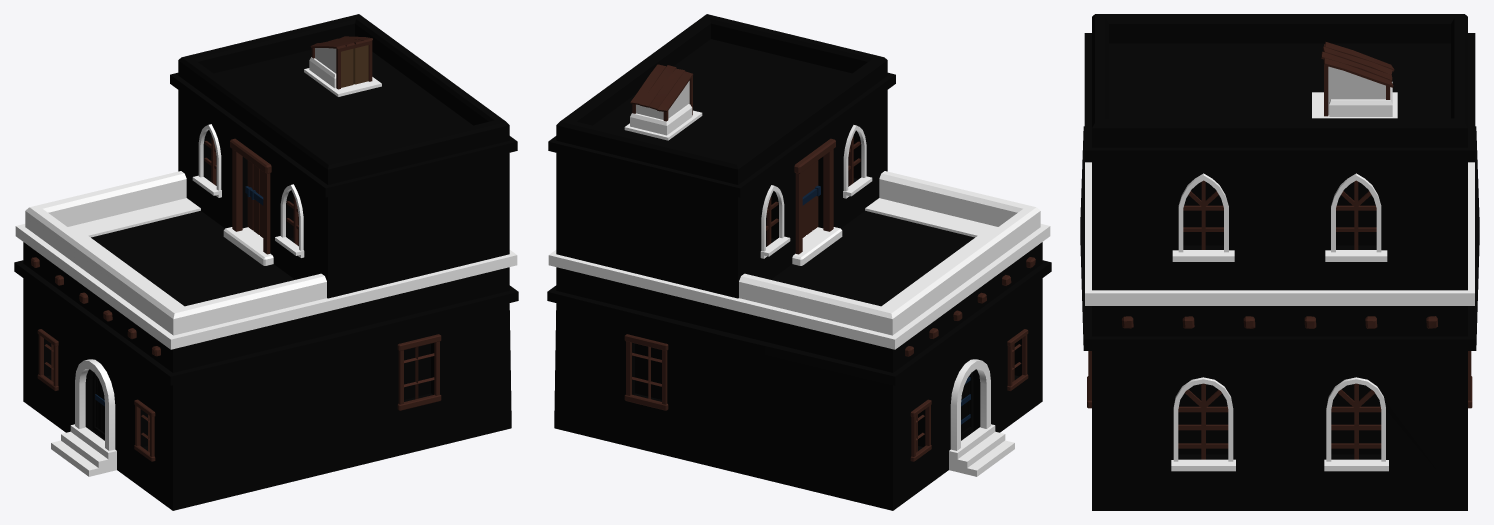
The model's file is civilian_house_32_f.FBX.
3 renders of one model, left to right at view 1: azimuth 30°, elevation 25°; view 2: azimuth 150°, elevation 25°; view 3: azimuth 270°, elevation 25°, orthographic. The views are drawn at different scales.
Visible parts, largest first — view 1: civilian_house_32_f; view 2: civilian_house_32_f; view 3: civilian_house_32_f.
Part boxes in pixels (<box>): civilian_house_32_f: <box>14,14,518,510</box>; civilian_house_32_f: <box>547,14,1051,510</box>; civilian_house_32_f: <box>1080,14,1479,510</box>.
Bounding box in the file's own units: 1157 × 986 × 850.
